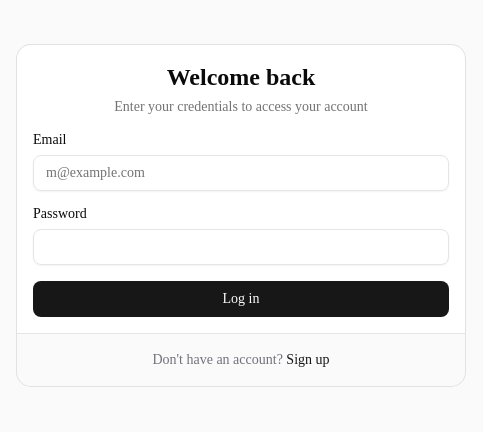
Test: LoginPage › shows validation errors for empty fields
Click the button "Log in".
click(241, 298)  # box [33,280,449,316]
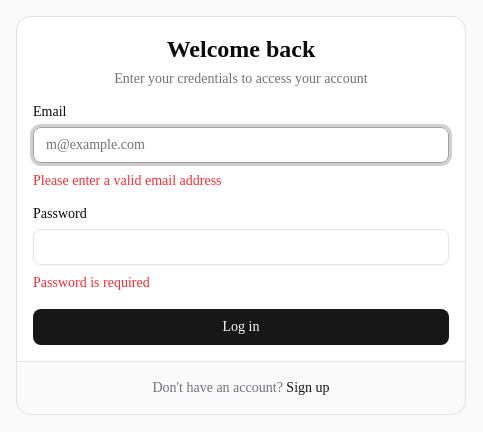
Expected: the text "Please enter a valid email address" is shown, [33,172,222,188]
Expected: the text "Password is required" is shown, [33,274,150,290]
